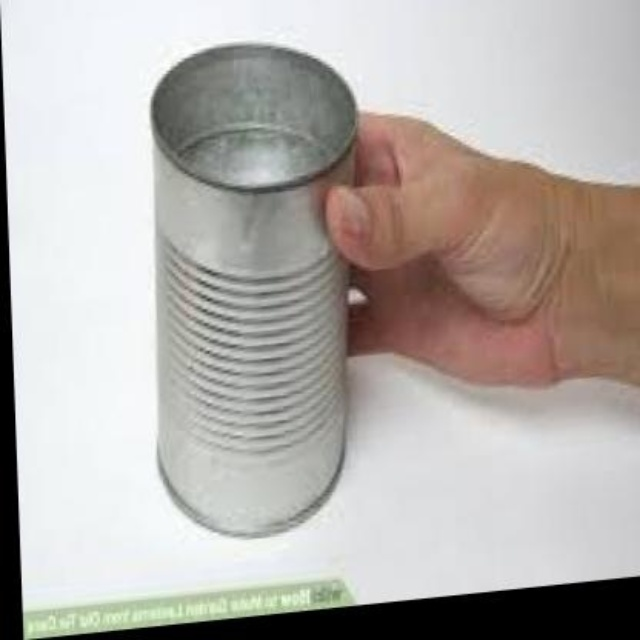trash: (152, 45, 355, 534)
